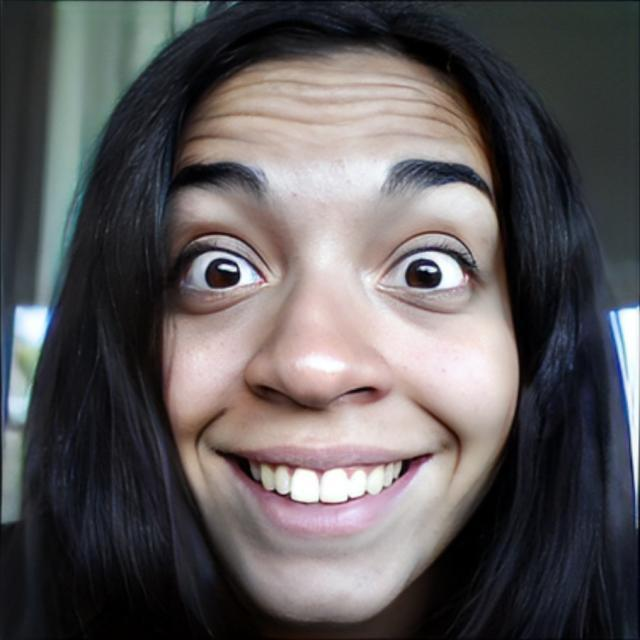surprise: (155, 43, 520, 622)
